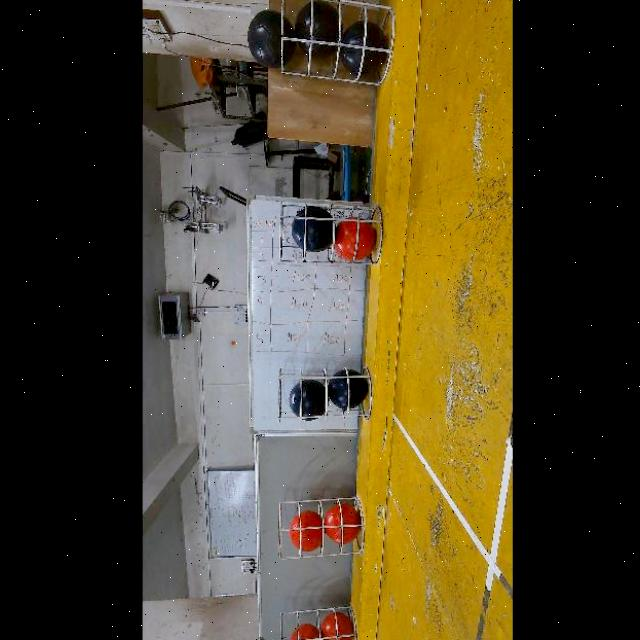P: (337, 20, 386, 78), (246, 10, 294, 69), (292, 0, 337, 59), (290, 205, 331, 253), (326, 369, 367, 410), (287, 379, 325, 421)
R: (332, 222, 375, 262), (323, 504, 359, 545), (289, 510, 321, 551), (319, 613, 352, 640), (289, 623, 318, 640)
S: (279, 0, 395, 86), (274, 200, 382, 268), (273, 492, 359, 562), (276, 362, 368, 424), (274, 606, 352, 640)
